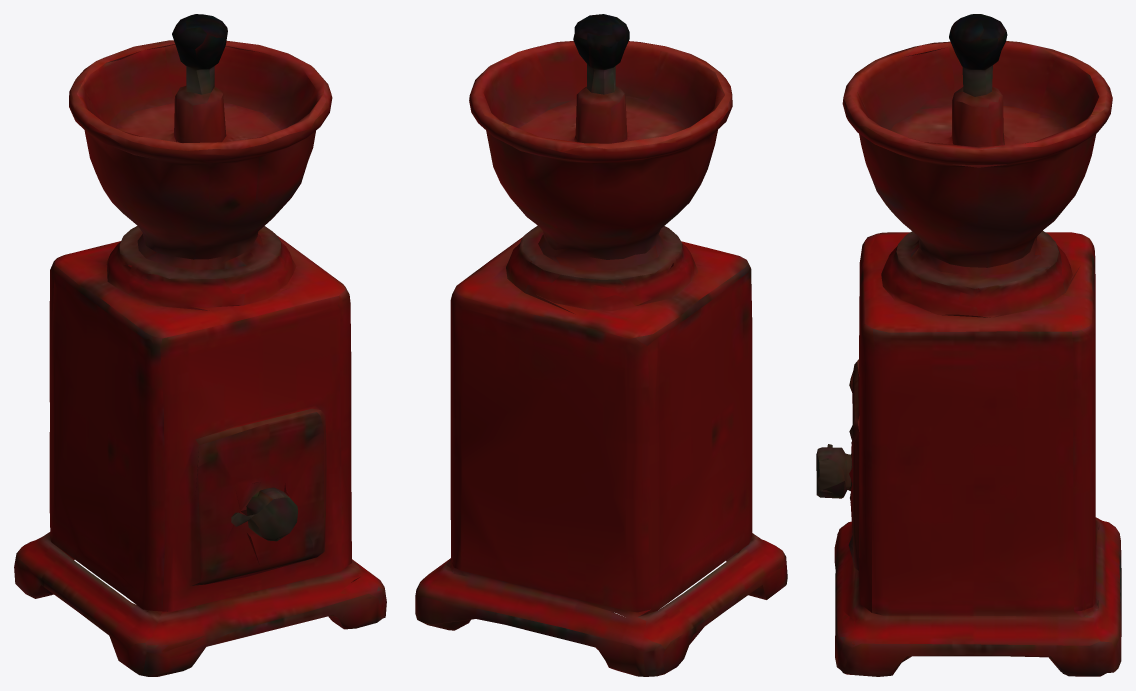
The model's file is grinder.glb.
The picture shows the model from 3 angles, left to right: view 1: azimuth 30°, elevation 25°; view 2: azimuth 150°, elevation 25°; view 3: azimuth 270°, elevation 25°; orthographic projection. The views are drawn at different scales.
Visible parts, largest first — view 1: grinder; view 2: grinder; view 3: grinder.
Boxes of the visible parts, x1,y1,x2,y2 form: grinder: (14, 14, 386, 676); grinder: (415, 14, 787, 676); grinder: (816, 14, 1121, 676).
Bounding box in the file's own units: 0.2495 × 0.55 × 0.255.
1 material, 1 textured.
